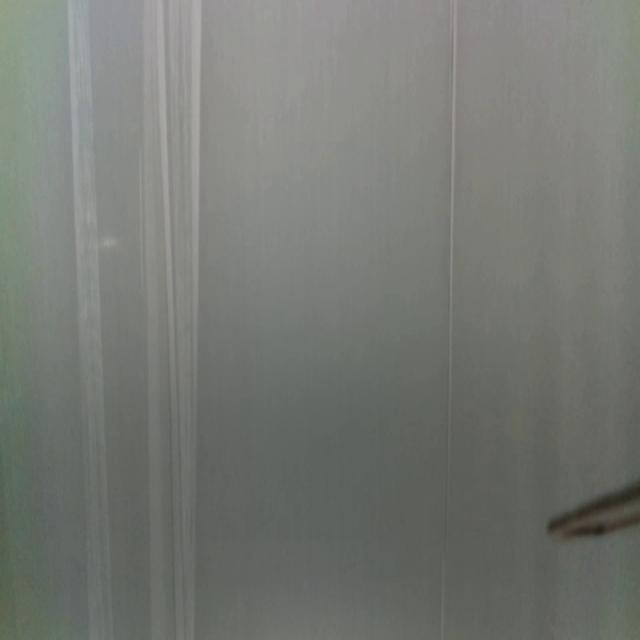crease: (145, 0, 202, 640), (69, 0, 113, 640), (439, 0, 458, 640)
